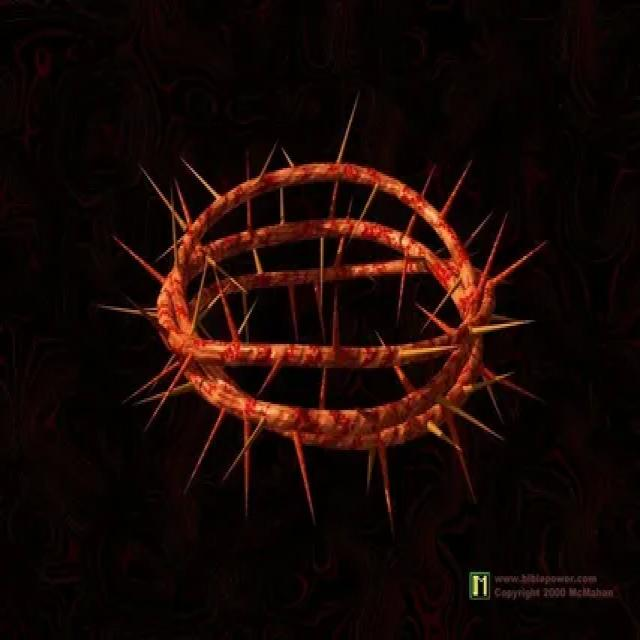crown: (138, 133, 510, 469)
